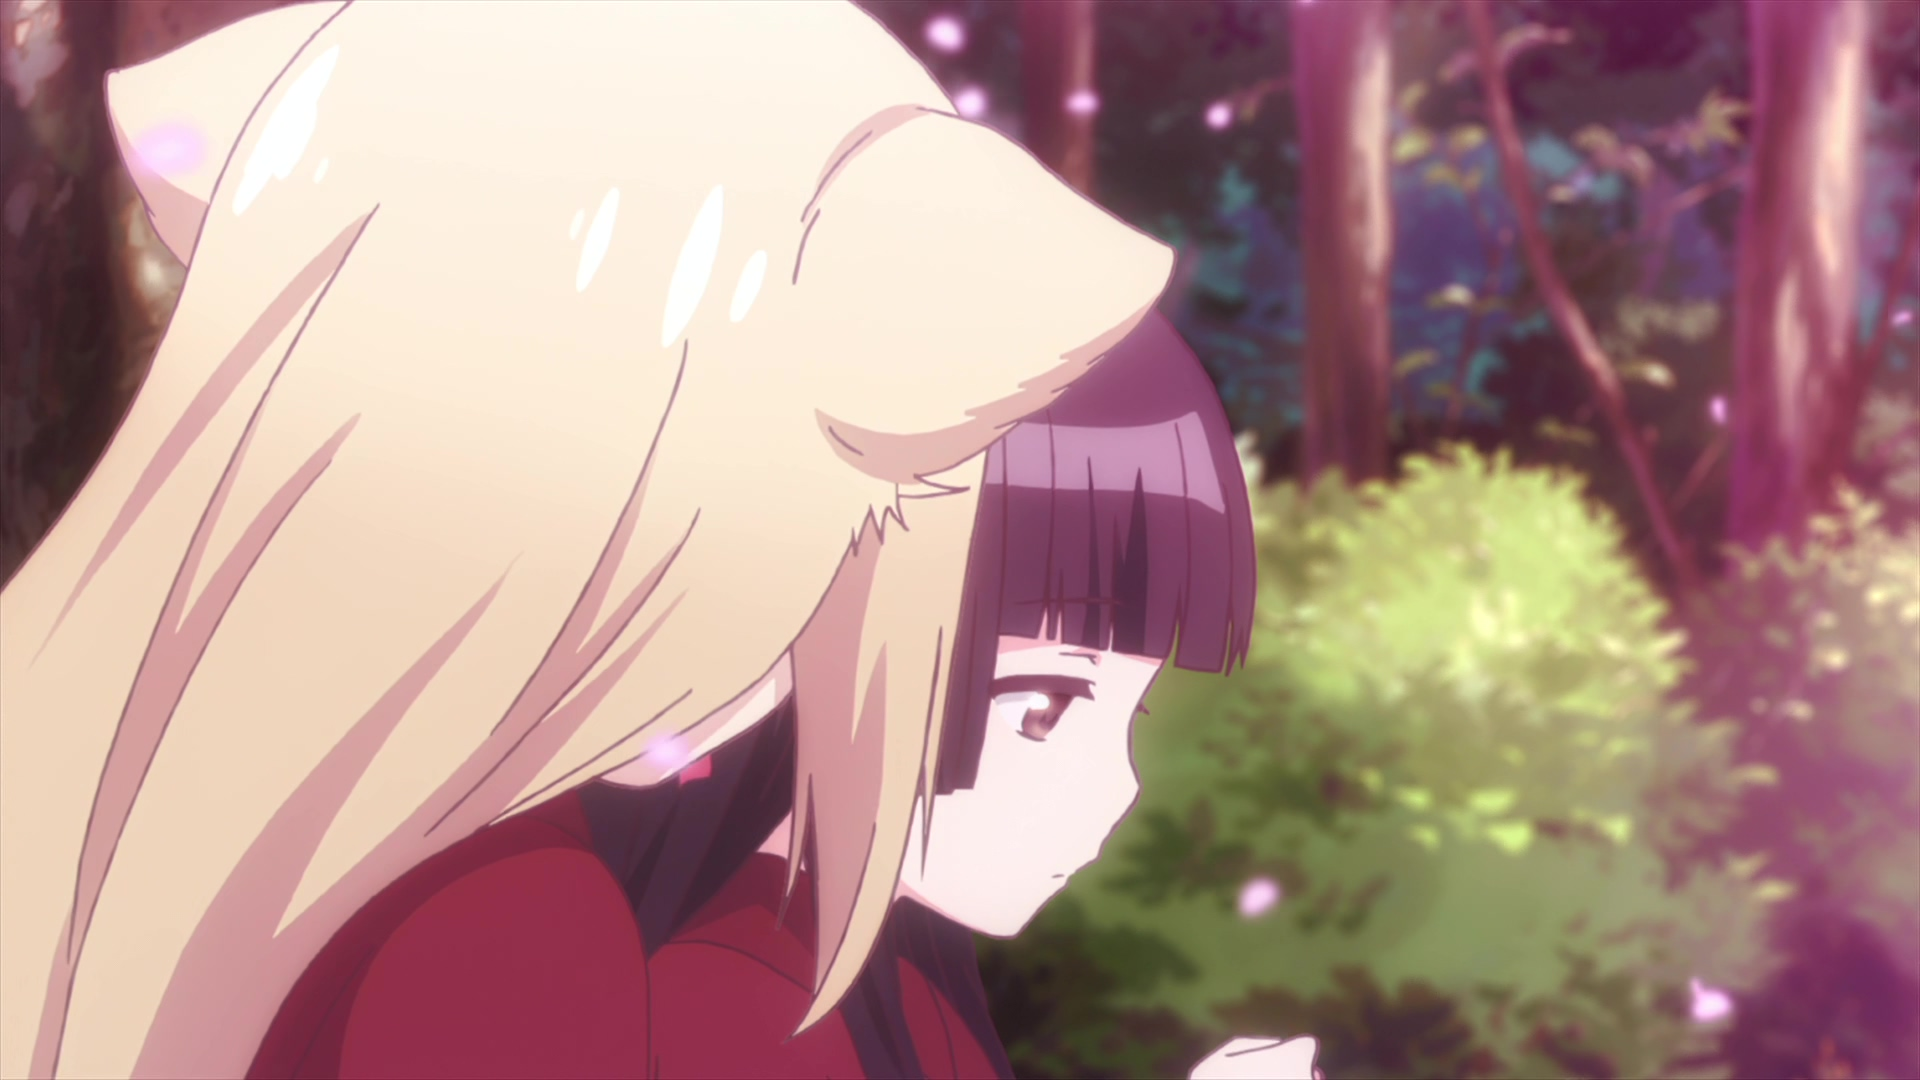柚: (1, 5, 1174, 1080)
樱: (582, 306, 1323, 1080)
